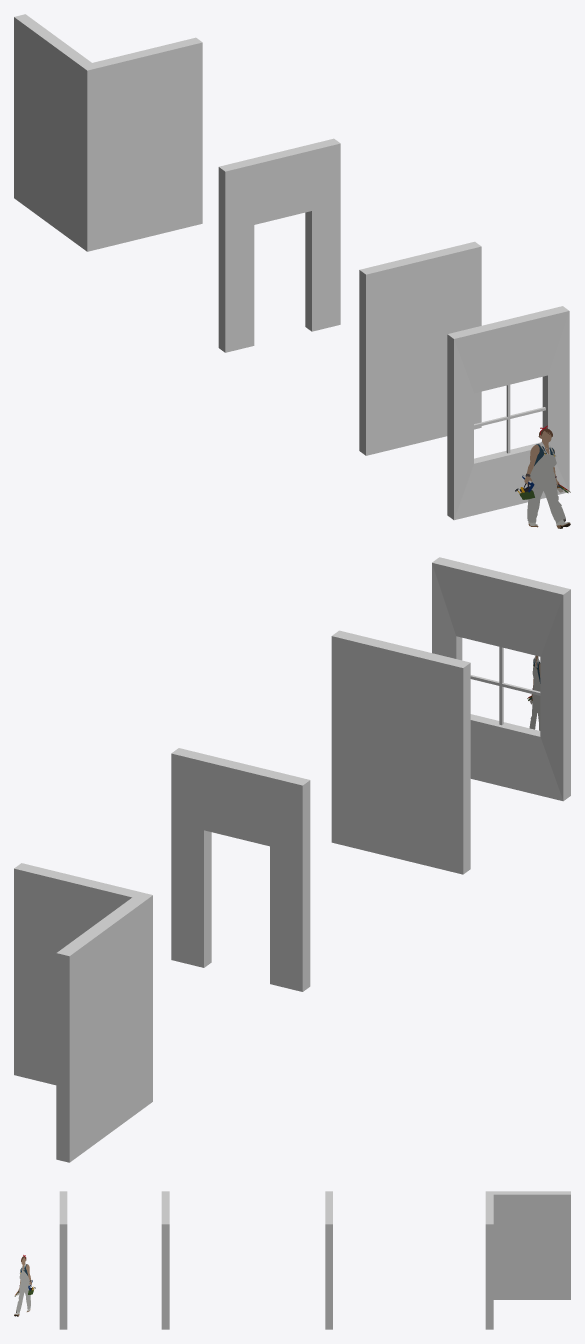
File: Walls(do not use).dae
The picture shows the model from 3 angles, top to bottom: view 1: azimuth 30°, elevation 25°; view 2: azimuth 150°, elevation 25°; view 3: azimuth 270°, elevation 25°; orthographic projection. The views are drawn at different scales.
Visible parts, largest first — view 1: group_1, group_0, group_2 (×2), group_3, Lisanne; view 2: group_1, group_0, group_3, group_2; view 3: group_1, group_0, group_2, group_3, Lisanne.
Boxes of the visible parts, <box> form: group_1: <box>14,14,202,251</box>; group_0: <box>359,241,481,455</box>; group_2 (×2): <box>447,306,569,520</box>; group_3: <box>218,138,340,352</box>; Lisanne: <box>527,454,565,523</box>; group_1: <box>14,863,152,1162</box>; group_0: <box>331,630,470,874</box>; group_3: <box>171,748,310,991</box>; group_2: <box>432,557,570,801</box>; group_1: <box>485,1191,570,1329</box>; group_0: <box>161,1191,169,1329</box>; group_2: <box>59,1191,67,1329</box>; group_3: <box>325,1191,332,1329</box>; Lisanne: <box>16,1271,30,1312</box>.
Size of the model in its own units: 78.74 by 566 by 118.
